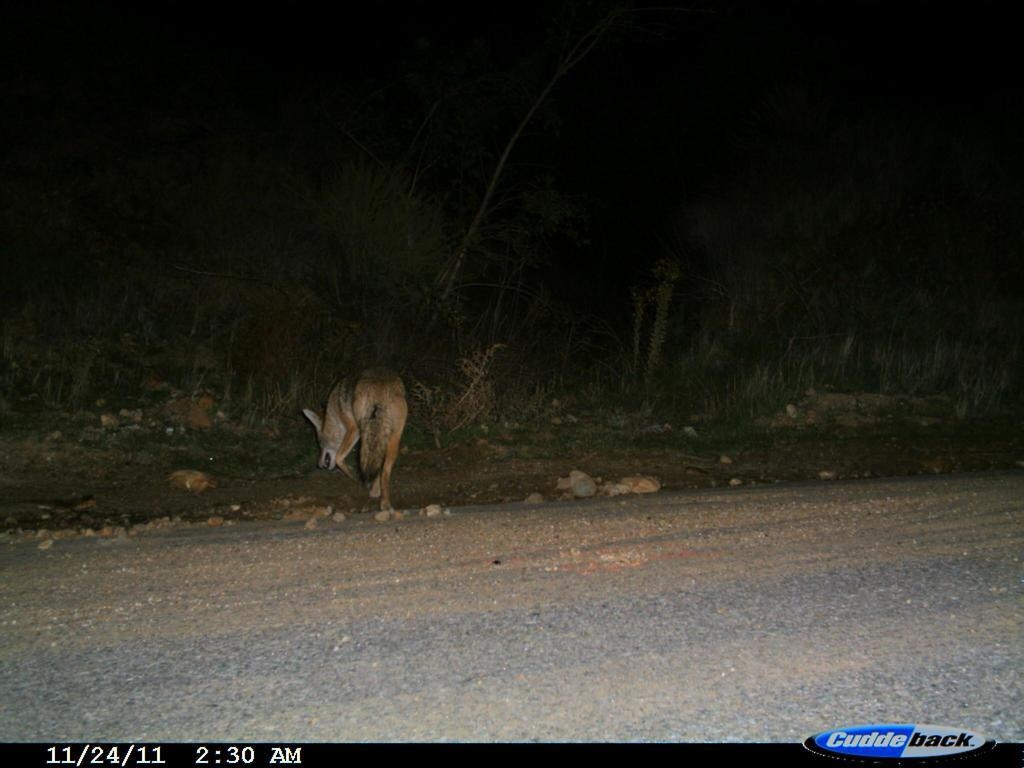coyote: (299, 358, 414, 519)
